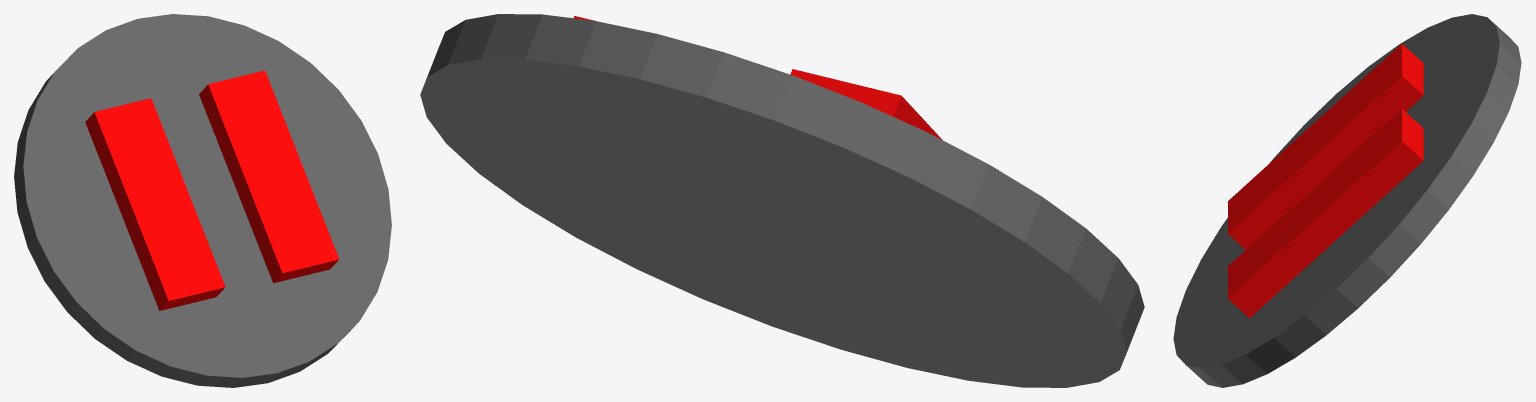
File: info-board-large-pause-button.glb
3 views of the same model, side by side, from view 1: azimuth 30°, elevation 25°; view 2: azimuth 150°, elevation 25°; view 3: azimuth 270°, elevation 25° (orthographic). The views are drawn at different scales.
Visible parts, largest first — view 1: pause-button-base; view 2: pause-button-base; view 3: pause-button-base.
Part boxes in pixels (bbox=[...]): pause-button-base: bbox=[14, 14, 391, 387]; pause-button-base: bbox=[420, 14, 1144, 387]; pause-button-base: bbox=[1173, 14, 1521, 387].
Size of the model in its own units: 0.15 by 0.1131 by 0.1131.
